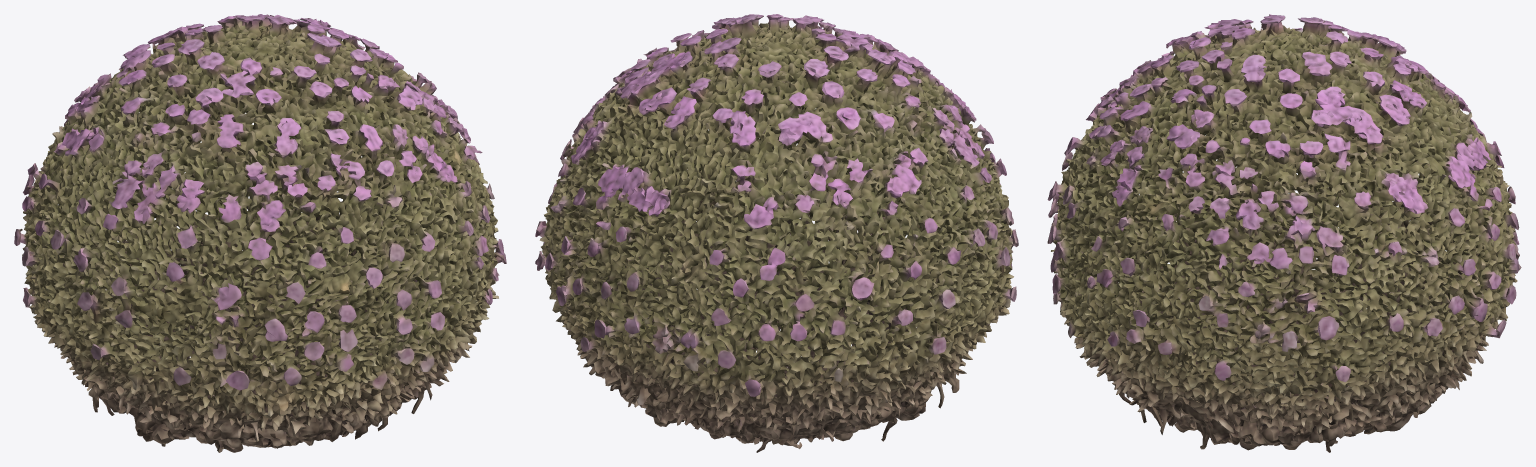
The model's file is mystery-4900733.glb.
3 views of the same model, side by side, from view 1: azimuth 30°, elevation 25°; view 2: azimuth 150°, elevation 25°; view 3: azimuth 270°, elevation 25° (orthographic).
Parts seen in each view (by area): view 1: world; view 2: world; view 3: world.
Boxes of the visible parts, left/top/right/bottom form: world: left=14, top=14, right=506, bottom=452; world: left=535, top=14, right=1018, bottom=452; world: left=1047, top=14, right=1521, bottom=452.
Bounding box in the file's own units: 0.3 × 0.2629 × 0.2975.
Materials: 1 (1 with a texture image).
